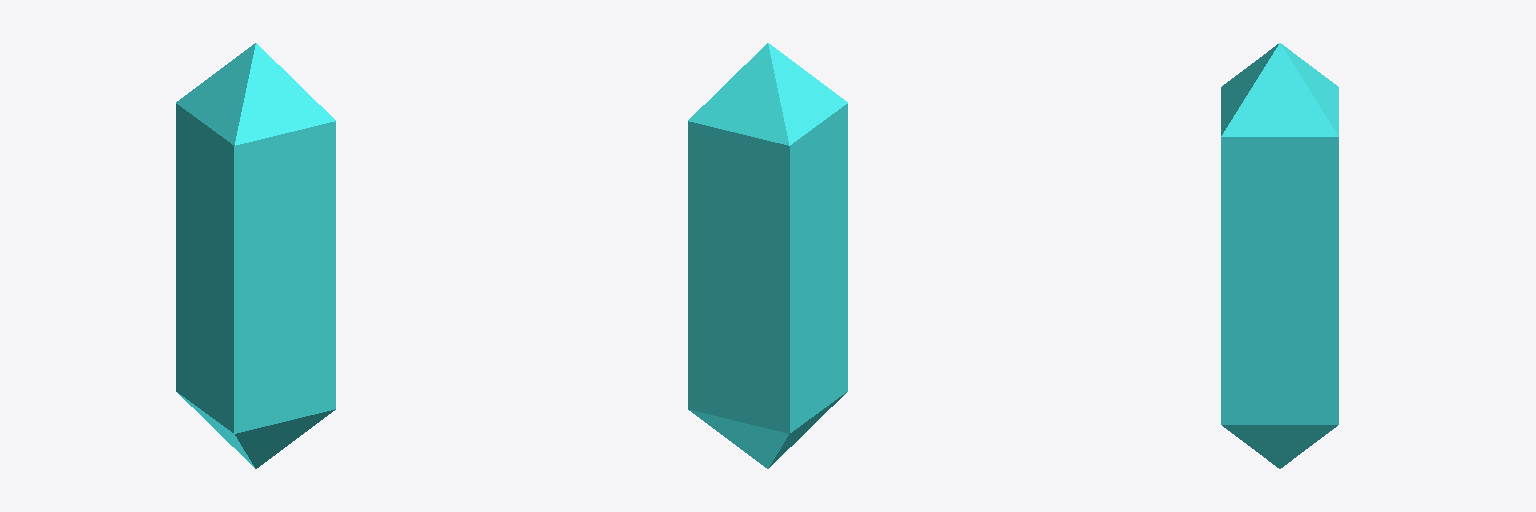
File: crystal.obj
3 renders of one model, left to right at view 1: azimuth 30°, elevation 25°; view 2: azimuth 150°, elevation 25°; view 3: azimuth 270°, elevation 25°, orthographic.
Parts seen in each view (by area): view 1: Cube_Cube.001; view 2: Cube_Cube.001; view 3: Cube_Cube.001.
Boxes of the visible parts, x1=… form: Cube_Cube.001: x1=176, y1=43, x2=335, y2=468; Cube_Cube.001: x1=688, y1=43, x2=847, y2=468; Cube_Cube.001: x1=1221, y1=43, x2=1338, y2=468.
Size of the model in its own units: 0.25 by 1 by 0.25.